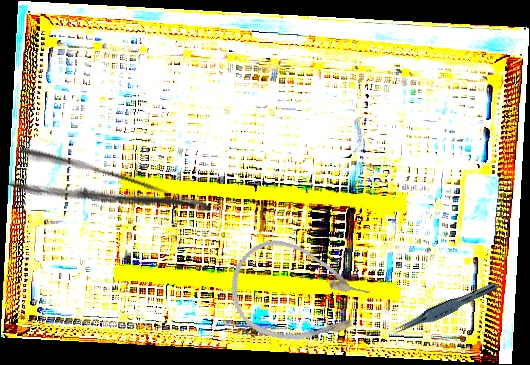Cannula: (219, 230, 379, 360)
Dressing Forceps: (8, 142, 213, 246)
Tissue Forceps: (389, 275, 499, 342)
